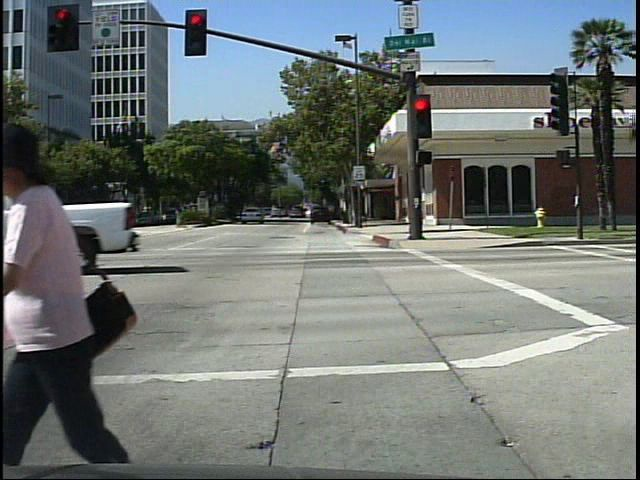person: (0, 105, 140, 467)
